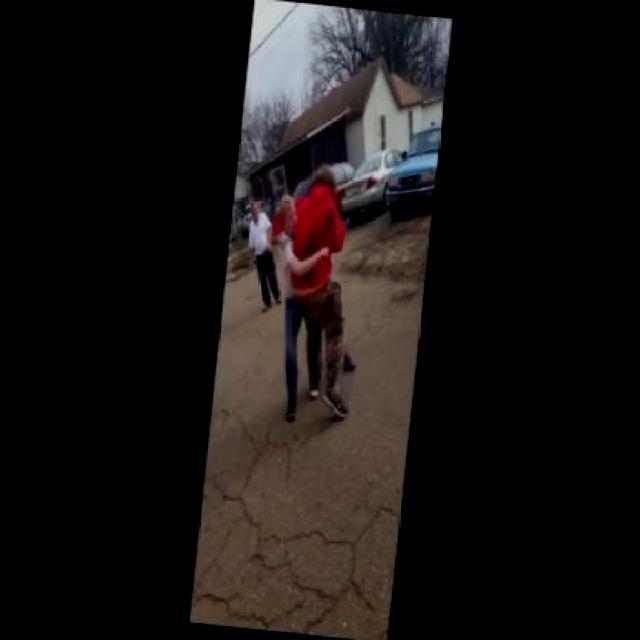fight: (264, 161, 360, 422)
